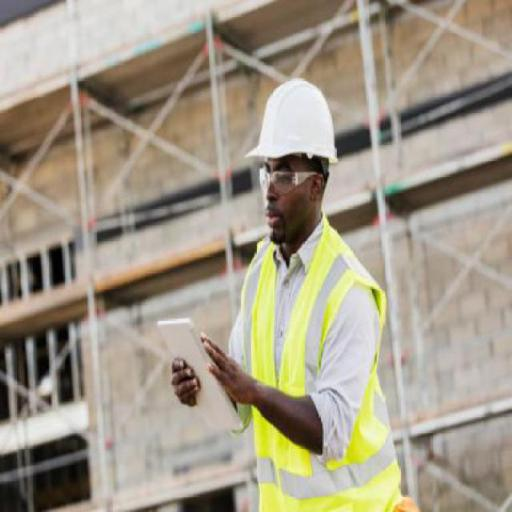glass: (252, 162, 315, 200)
hardhat: (242, 74, 342, 166)
person: (169, 64, 425, 510)
vest: (226, 226, 414, 512)
